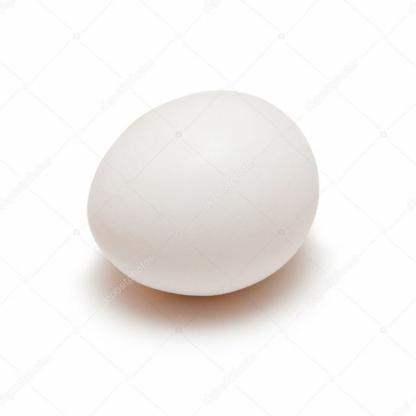egg: (84, 87, 324, 299)
